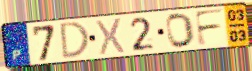2: (129, 16, 156, 53)
7: (31, 23, 57, 62)
D: (59, 20, 91, 61)
F: (193, 7, 226, 47)
O: (164, 12, 196, 50)
X: (95, 16, 126, 57)
